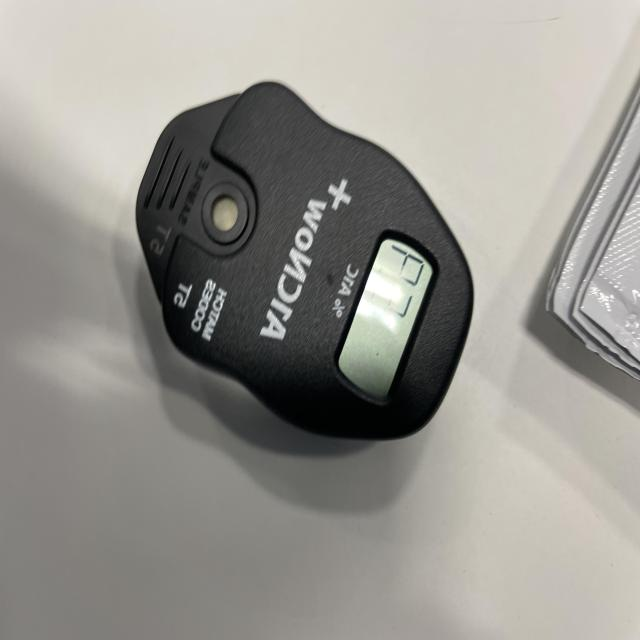hba1c: (134, 81, 476, 445)
